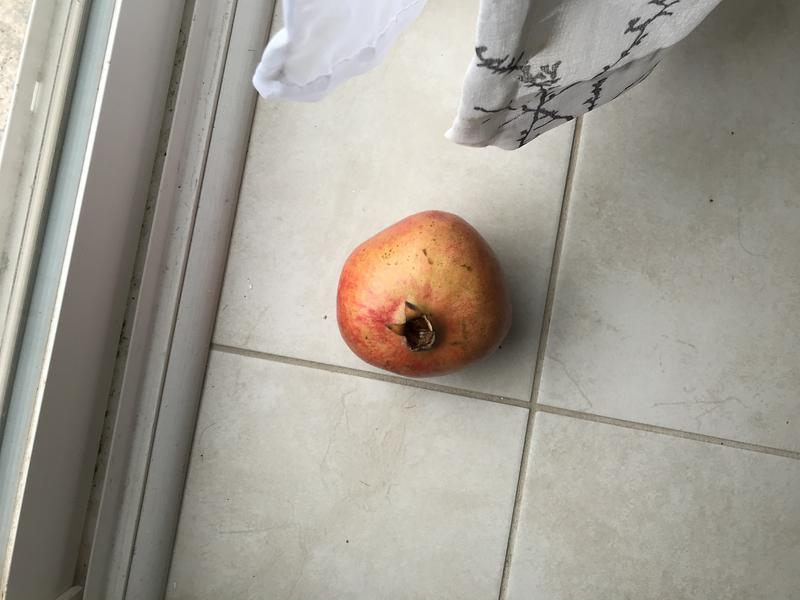pomegranate: (329, 202, 522, 383)
